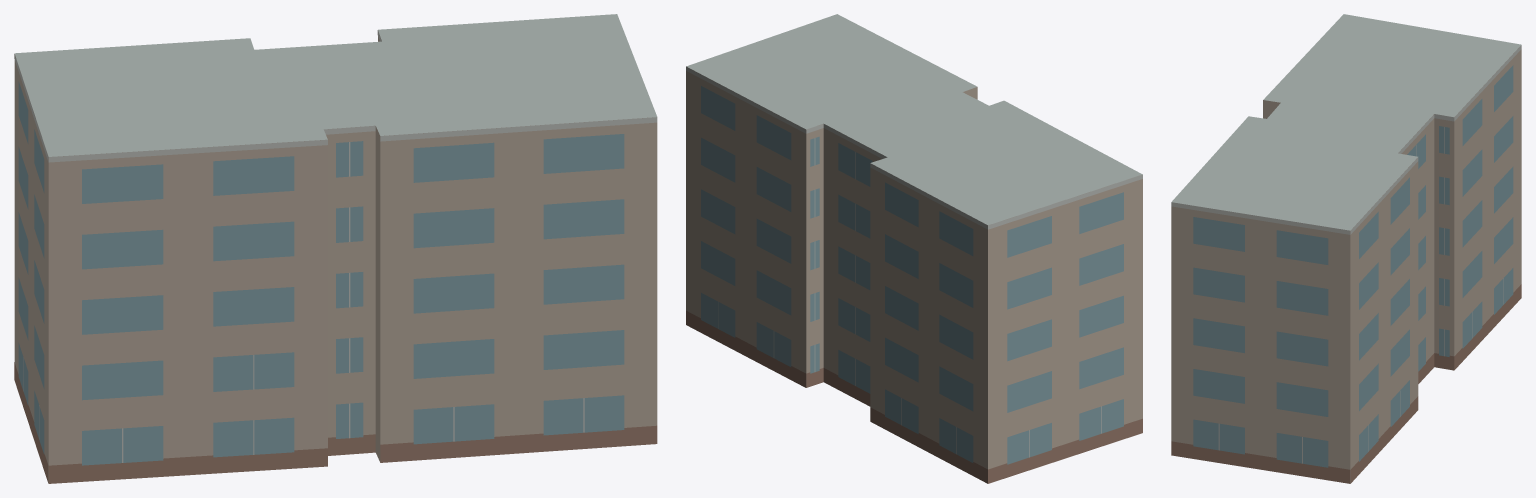
Rendered from survey-upis-32875957.glb.
The picture shows the model from 3 angles, left to right: view 1: azimuth 30°, elevation 25°; view 2: azimuth 150°, elevation 25°; view 3: azimuth 270°, elevation 25°; orthographic projection. The views are drawn at different scales.
Visible parts, largest first — view 1: survey-upis-32875957.tmp; view 2: survey-upis-32875957.tmp; view 3: survey-upis-32875957.tmp.
Boxes of the visible parts, x1,y1,x2,y2 form: survey-upis-32875957.tmp: [14, 14, 657, 483]; survey-upis-32875957.tmp: [686, 14, 1142, 483]; survey-upis-32875957.tmp: [1171, 14, 1521, 483].
Size of the model in its own units: 26.61 by 14.5 by 18.2.
